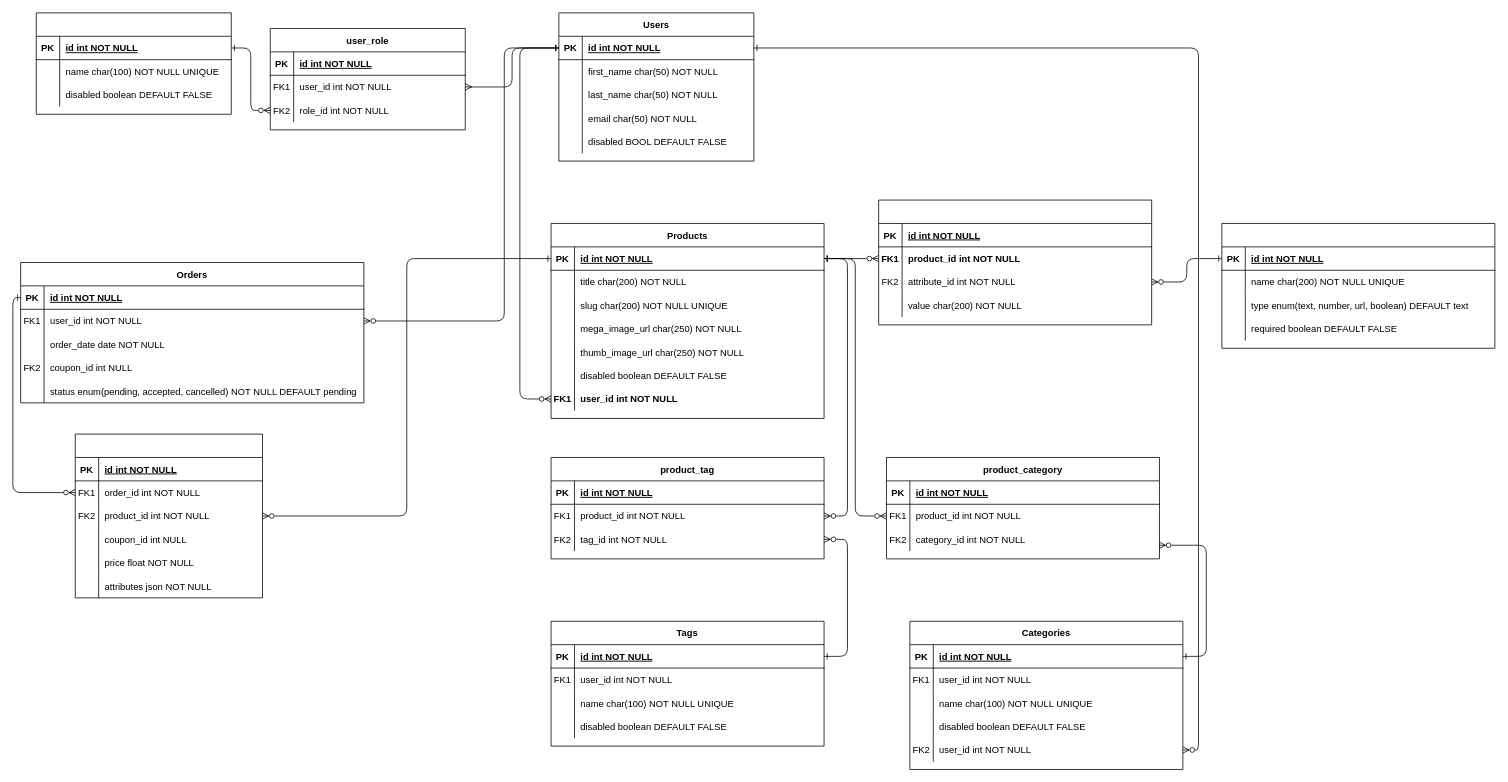
The diagram is 1508 pixels wide and 782 high, and some of its shapes have lost their labels. Here are the shapes that lost their labels. From the top down, the box of each, then its label:
(35, 12, 231, 114): Roles
(878, 199, 1152, 325): product_attribute
(1221, 223, 1495, 348): Attributes
(74, 433, 262, 598): order_product
